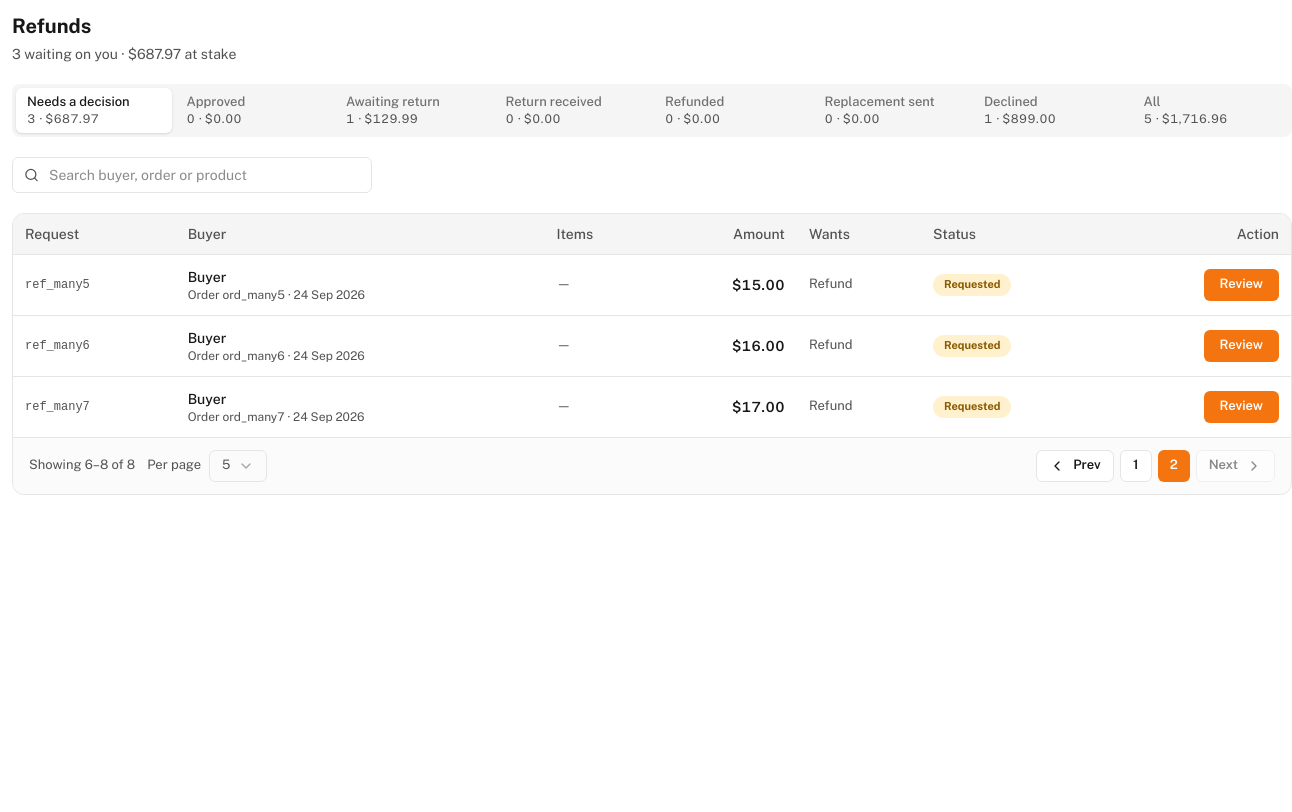
SellerRefunds › starts the bucket again at the first page
expect the text "Showing 6–8 of 8" is shown: met, box top-left (29, 456), bottom-right (135, 475)
Click the tab "All 5 · $1,716.96".
click(1210, 110)  # box top-left (1132, 88), bottom-right (1288, 133)
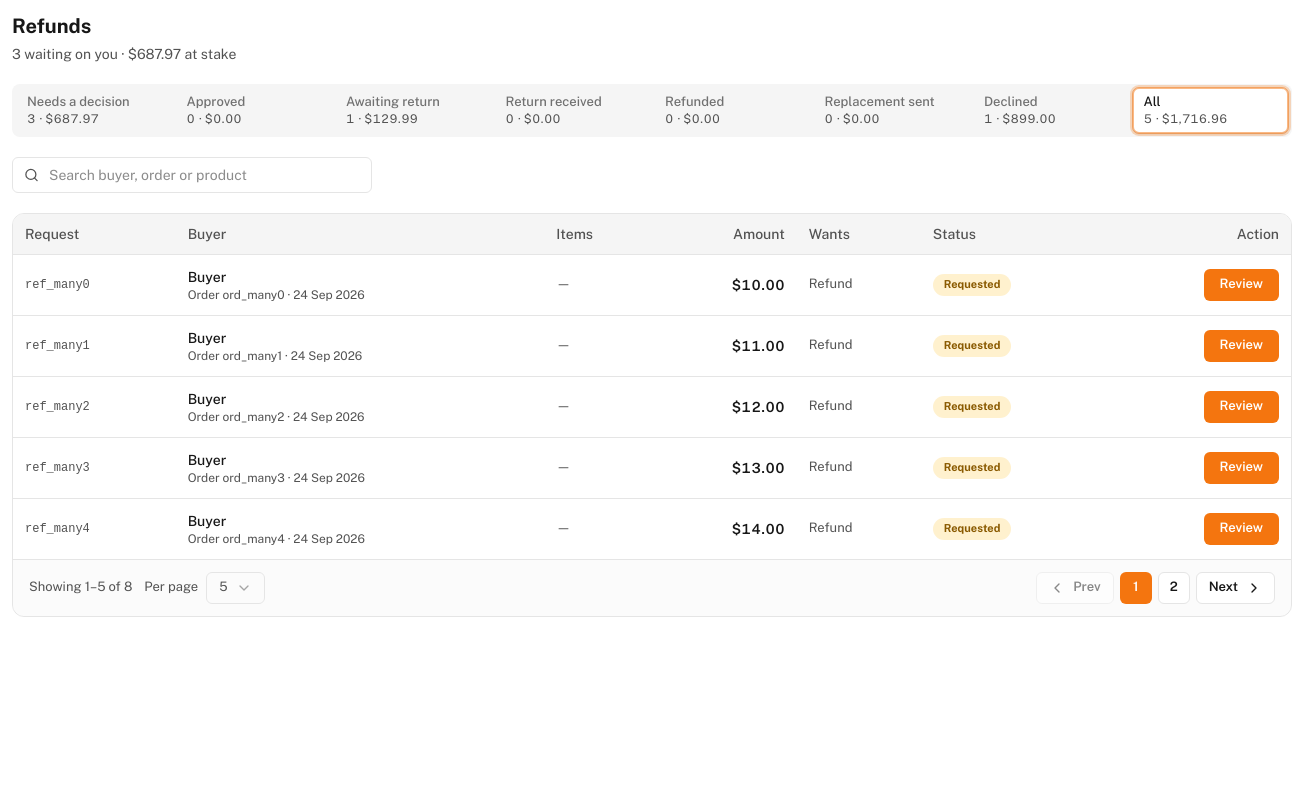
expect the text "Showing 1–5 of 8" is shown: met, box top-left (29, 578), bottom-right (132, 597)
